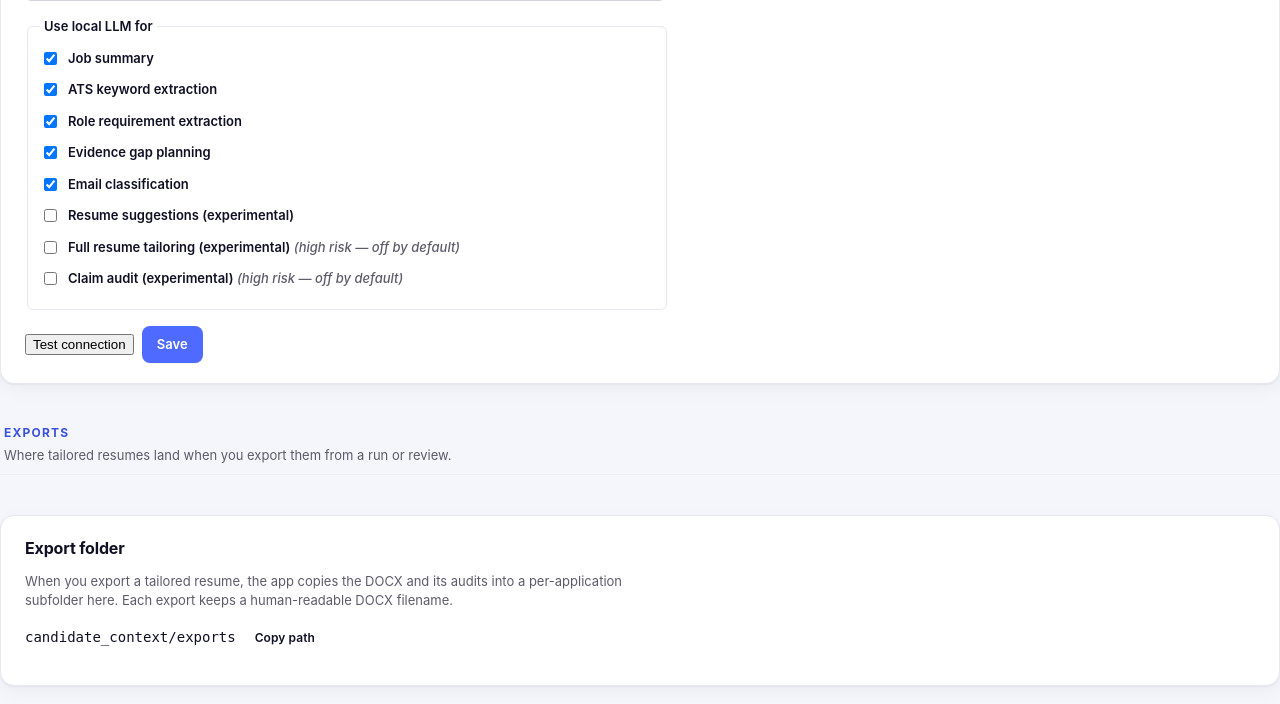
Test: SettingsPage – Local LLM card › shows the server-reported context after a verified connection test
(page scrolled)
Step 1. Click the button "Test connection" → point(79, 344), box [25,334,134,355]
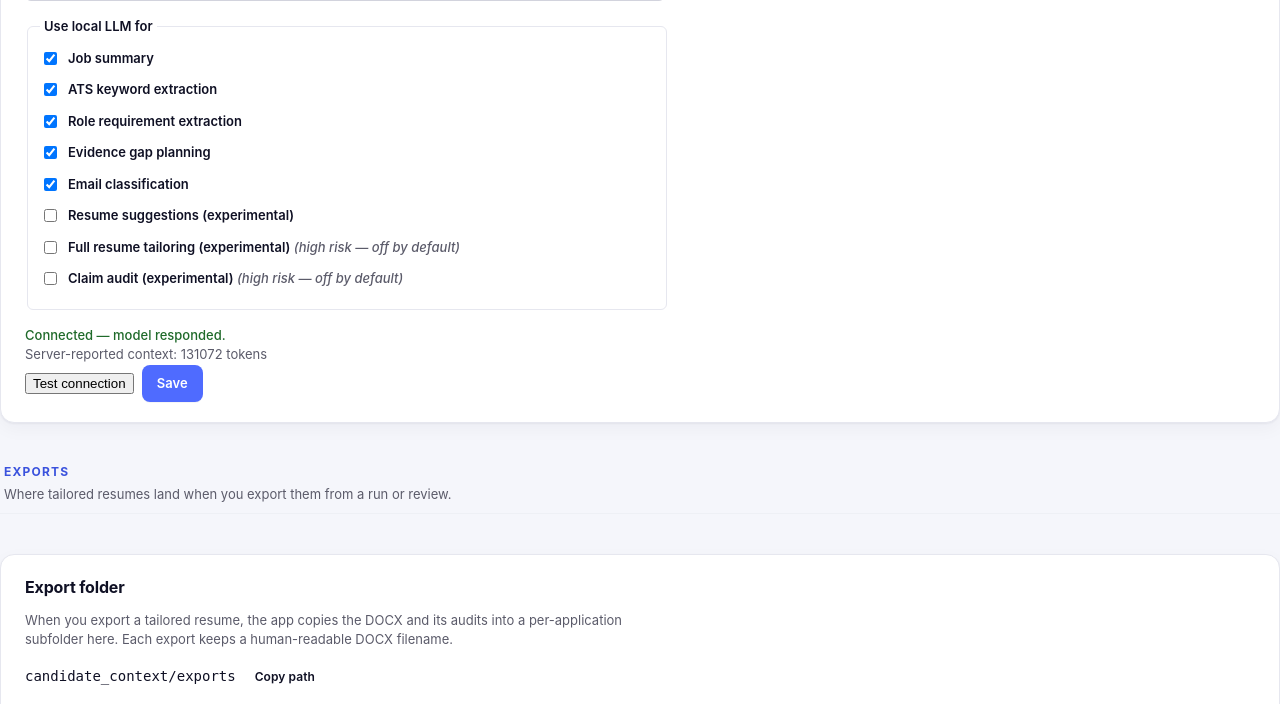
expect the message with test id "server-context-verified" reads "Server-reported context: 131072 tokens": met, box [25,346,267,362]
